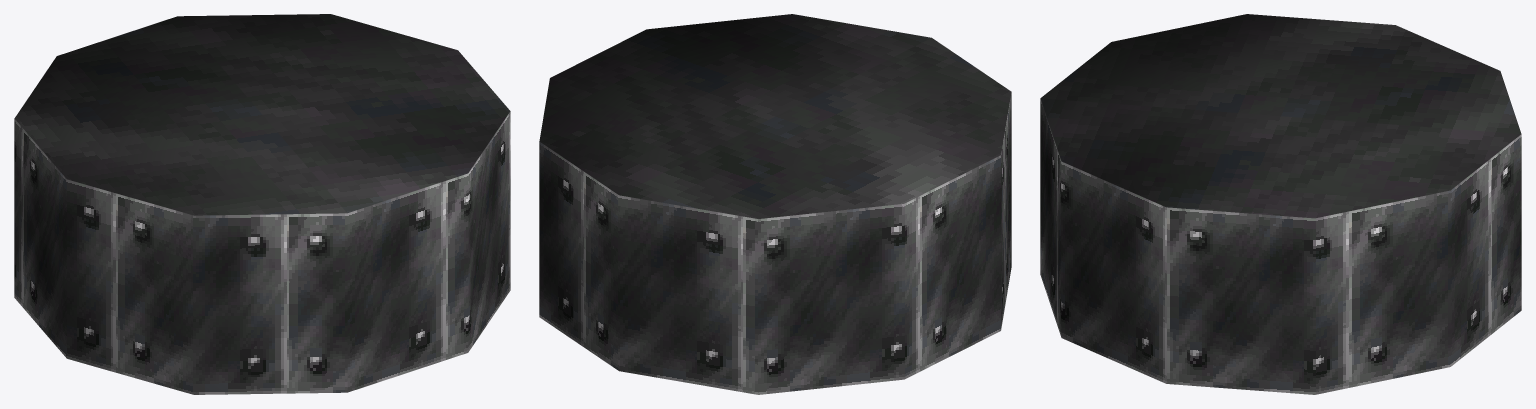
Rendered from SWORDLIGHT20_JAILWHEELMOUNT01.fbx.
The picture shows the model from 3 angles, left to right: view 1: azimuth 30°, elevation 25°; view 2: azimuth 150°, elevation 25°; view 3: azimuth 270°, elevation 25°; orthographic projection.
Parts seen in each view (by area): view 1: SWORDLIGHT20_JAILWHEELMOUNT01; view 2: SWORDLIGHT20_JAILWHEELMOUNT01; view 3: SWORDLIGHT20_JAILWHEELMOUNT01.
Boxes of the visible parts, x1,y1,x2,y2 form: SWORDLIGHT20_JAILWHEELMOUNT01: [14, 14, 510, 394]; SWORDLIGHT20_JAILWHEELMOUNT01: [539, 14, 1011, 394]; SWORDLIGHT20_JAILWHEELMOUNT01: [1040, 14, 1521, 394].
Bounding box in the file's own units: 13864 × 5583 × 13787.
1 material, 1 textured.
